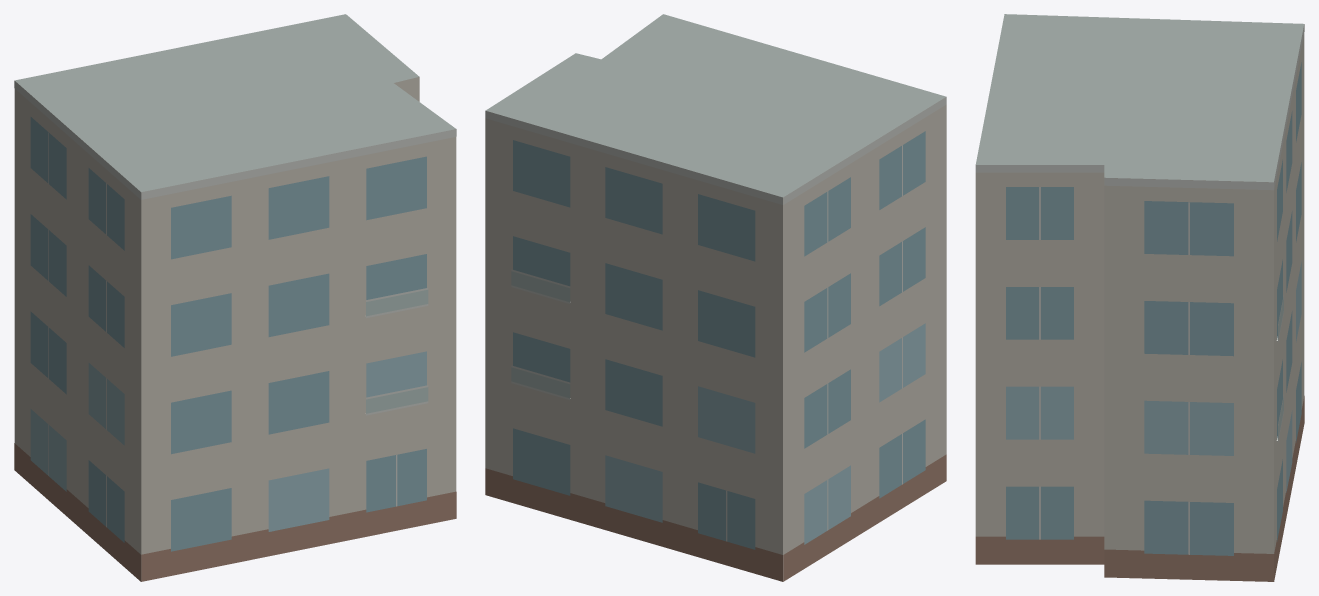
File: survey-upis-32476810.glb
3 views of the same model, side by side, from view 1: azimuth 30°, elevation 25°; view 2: azimuth 150°, elevation 25°; view 3: azimuth 270°, elevation 25° (orthographic). The views are drawn at different scales.
Parts seen in each view (by area): view 1: survey-upis-32476810.tmp; view 2: survey-upis-32476810.tmp; view 3: survey-upis-32476810.tmp.
Boxes of the visible parts, box(x1,y1,x2,y2) form: survey-upis-32476810.tmp: box(14, 14, 456, 581); survey-upis-32476810.tmp: box(485, 14, 946, 581); survey-upis-32476810.tmp: box(975, 14, 1304, 581).
Bounding box in the file's own units: 11.03 × 12.2 × 9.1.
